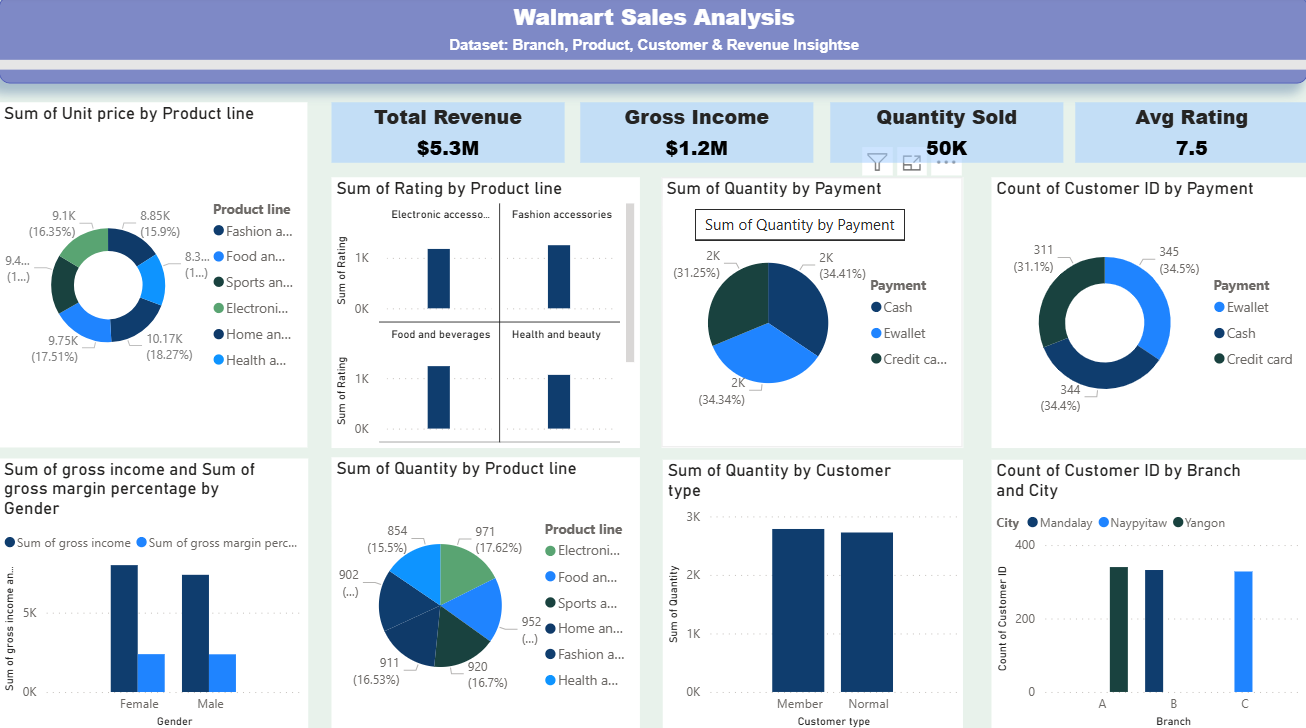

This screenshot's page, from the dashboard's own definition file:
{"tool":"powerbi","page":{"name":"Page 1","canvas":[1280,720],"ordinal":0},"visuals":[{"type":"clusteredColumnChart","fields":{"Rows":["Sheet1.Product line"],"Y":["Sum(Sheet1.Rating)"]},"box":[325.3,177.2,301.3,264.6],"z":0},{"type":"clusteredColumnChart","fields":{"Category":["Sheet1.Gender"],"Y":["Sum(Sheet1.gross income)","Sum(Sheet1.gross margin percentage)"]},"box":[0,451.9,302.5,268.4],"z":1000},{"type":"pieChart","fields":{"Category":["Sheet1.Payment"],"Y":["Sum(Sheet1.Quantity)"]},"box":[648.1,177.2,294.9,264.6],"z":2000},{"type":"pieChart","fields":{"Category":["Sheet1.Product line"],"Y":["Sum(Sheet1.Quantity)"]},"box":[325.3,450.6,301.3,269.6],"z":3000},{"type":"donutChart","fields":{"Y":["CountNonNull(Sheet1.Customer ID)"],"Category":["Sheet1.Payment"]},"box":[970.9,177.2,308.9,264.6],"z":4000},{"type":"columnChart","fields":{"Y":["Sum(Sheet1.Quantity)"],"Category":["Sheet1.Customer type"]},"box":[649.4,453.2,293.7,267.1],"z":5000},{"type":"clusteredColumnChart","fields":{"Category":["Sheet1.Branch"],"Series":["Sheet1.City"],"Y":["CountNonNull(Sheet1.Customer ID)"]},"box":[970.9,453.2,308.9,267.1],"z":6000},{"type":"textbox","title":"Walmart Sales Analysis","box":[0,0,1279.9,85.6],"z":7000},{"type":"textbox","title":"Total Revenue","box":[325.3,103.8,227.8,59.5],"z":8000},{"type":"textbox","title":"Gross Income","box":[568.4,103.8,227.8,59.5],"z":9000},{"type":"textbox","title":"Quantity Sold","box":[812.7,103.8,227.8,59.5],"z":10000},{"type":"textbox","title":"Avg Rating","box":[1051.9,103.8,227.8,59.5],"z":11000},{"type":"donutChart","fields":{"Category":["Sheet1.Product line"],"Y":["Sum(Sheet1.Unit price)"]},"box":[0,103.9,301.9,337.4],"z":12000}]}

Visuals, with their boxes in screenshot pixels (x1, y1, x2, y2), scaled from the page's 1280x720 canvas onto the 1306x728 screenshot:
clusteredColumnChart - Sheet1.Product line x Sum(Sheet1.Rating): bbox=(332, 179, 639, 447)
clusteredColumnChart - Sheet1.Gender x Sum(Sheet1.gross income): bbox=(0, 457, 309, 727)
pieChart - Sheet1.Payment x Sum(Sheet1.Quantity): bbox=(661, 179, 962, 447)
pieChart - Sheet1.Product line x Sum(Sheet1.Quantity): bbox=(332, 456, 639, 727)
donutChart - CountNonNull(Sheet1.Customer ID) x Sheet1.Payment: bbox=(991, 179, 1305, 447)
columnChart - Sum(Sheet1.Quantity) x Sheet1.Customer type: bbox=(663, 458, 962, 727)
clusteredColumnChart - Sheet1.Branch x Sheet1.City: bbox=(991, 458, 1305, 727)
"Walmart Sales Analysis" textbox: bbox=(0, 0, 1305, 87)
"Total Revenue" textbox: bbox=(332, 105, 564, 165)
"Gross Income" textbox: bbox=(580, 105, 812, 165)
"Quantity Sold" textbox: bbox=(829, 105, 1062, 165)
"Avg Rating" textbox: bbox=(1073, 105, 1305, 165)
donutChart - Sheet1.Product line x Sum(Sheet1.Unit price): bbox=(0, 105, 308, 446)
